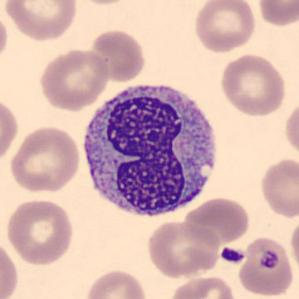Monocyte: (76, 74, 225, 227)
Platelets: (255, 246, 283, 274), (220, 246, 246, 264)
RBC: (8, 123, 83, 194), (4, 196, 76, 267), (36, 46, 111, 112), (144, 218, 221, 280), (218, 52, 288, 118), (236, 235, 296, 298), (191, 0, 258, 54), (182, 195, 252, 246), (88, 27, 148, 83), (2, 0, 80, 42), (257, 156, 299, 220), (83, 267, 150, 299), (166, 273, 239, 299), (0, 94, 21, 166), (0, 236, 21, 299), (256, 0, 297, 28), (282, 98, 299, 161), (288, 217, 299, 275), (0, 10, 10, 66), (70, 0, 136, 7)
